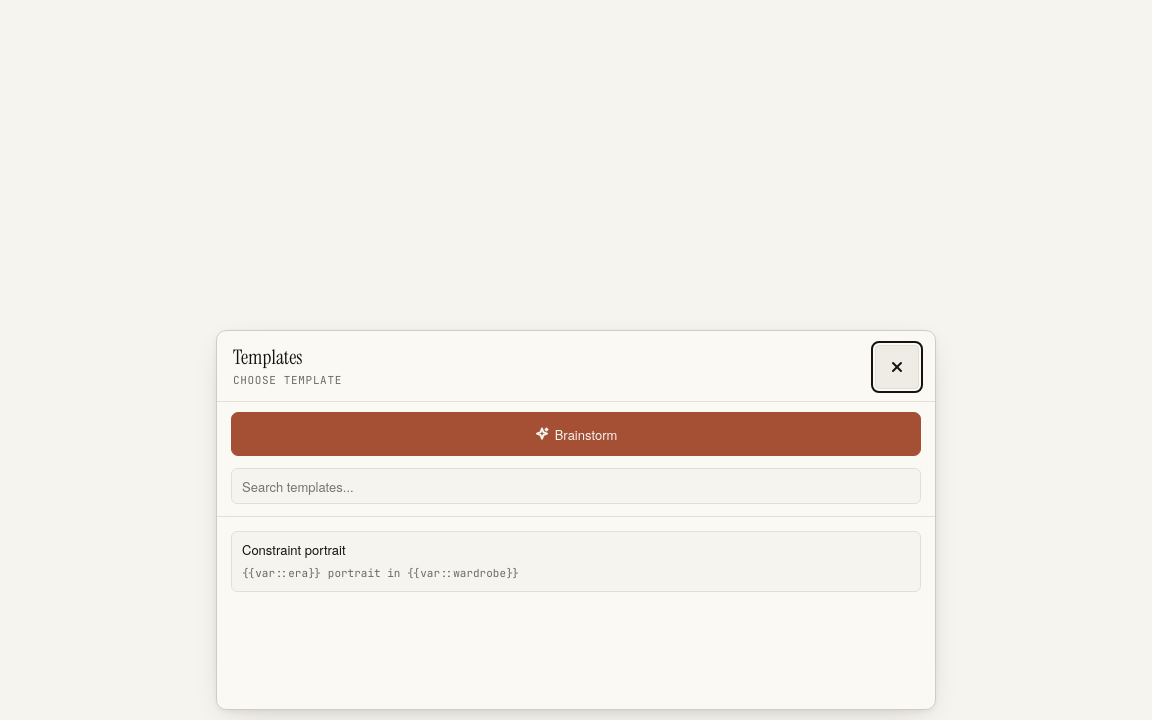
Scenario: PromptPicker back-to-list › returning to the list preserves the typed query
This screenshot has width=1152, height=720.
In the search field with placeholder "Search templates...": [576, 486] box [231,468,921,504], type "Constraint"
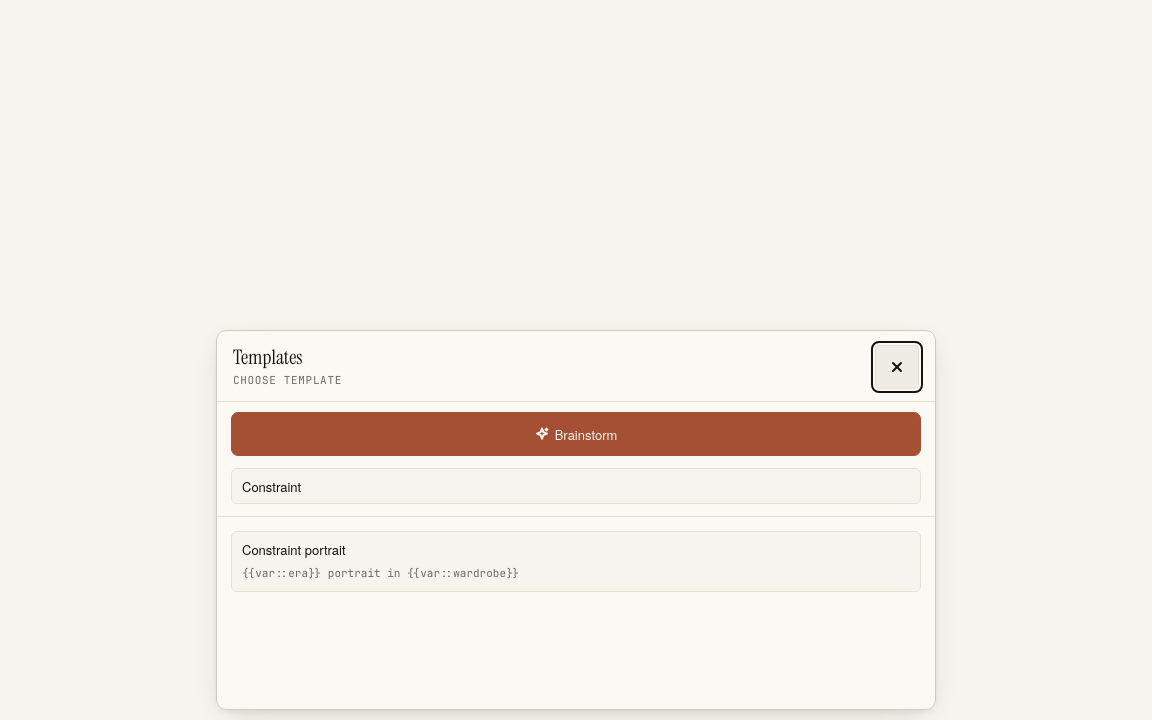
Click the button "Constraint portrait": [294, 550] box [231,531,921,592]
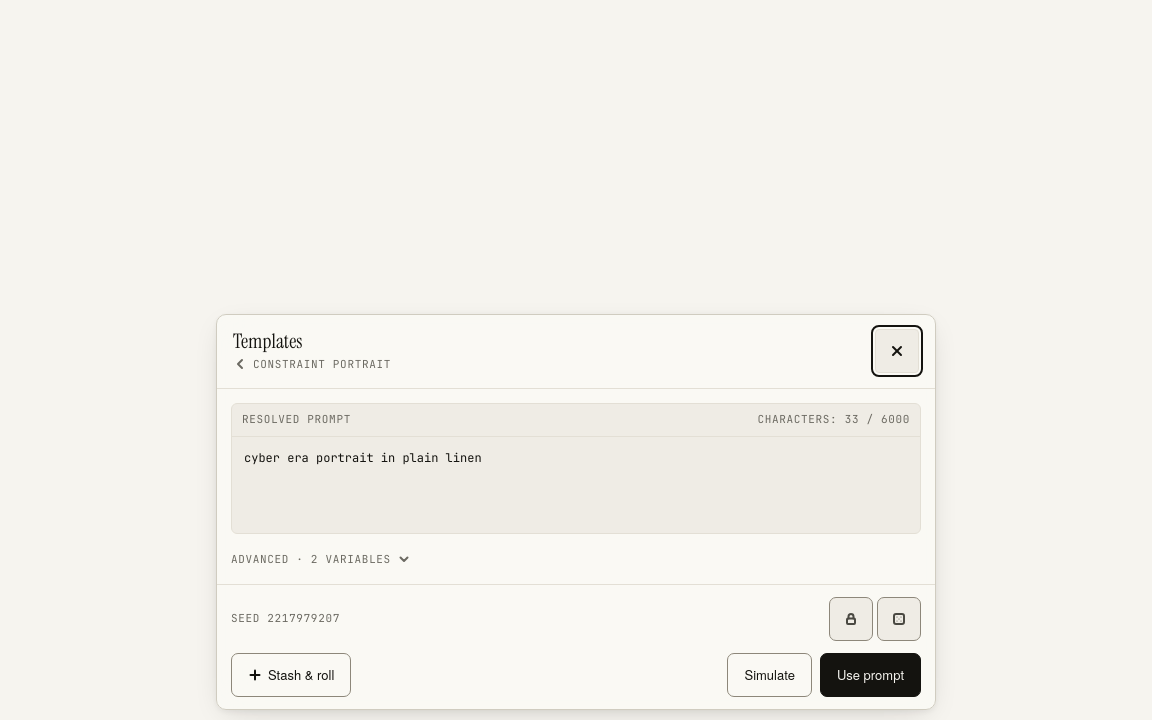
Click the button with aria-label "Back to template list": [312, 364] box [233,357,391,371]
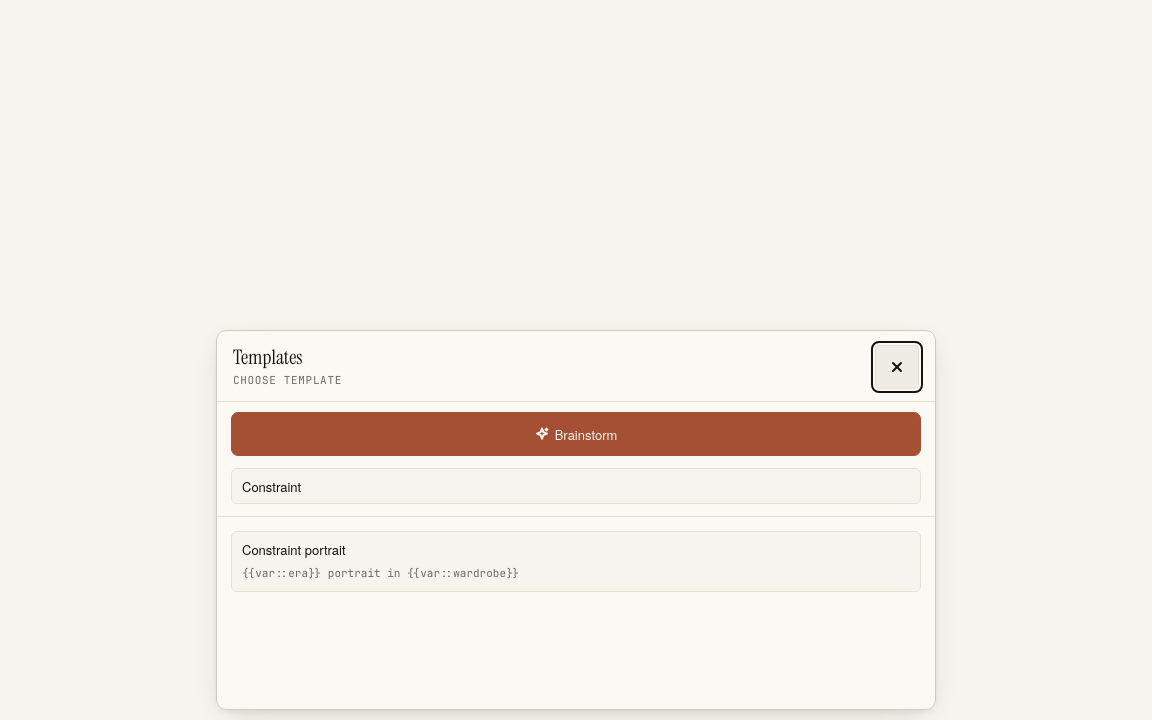
Now the search field with placeholder "Search templates..." holds "Constraint", box [231,468,921,504]
Now the button "Constraint portrait" is shown, box [231,531,921,592]
